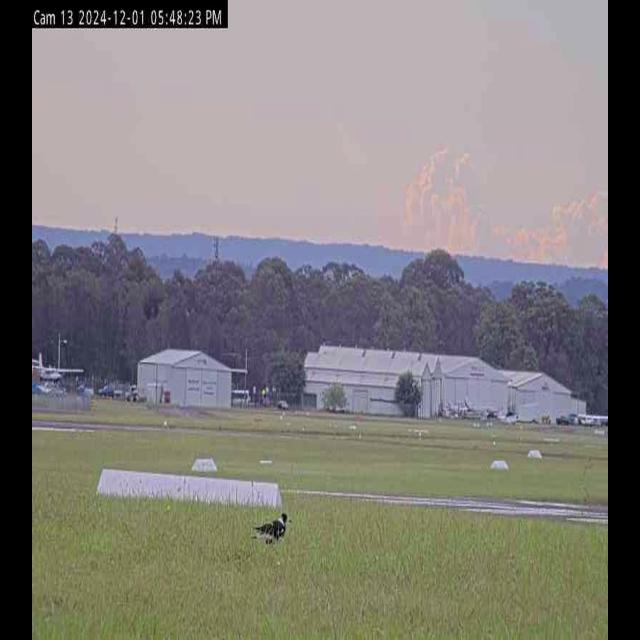Birds-Other: (250, 507, 294, 554)
